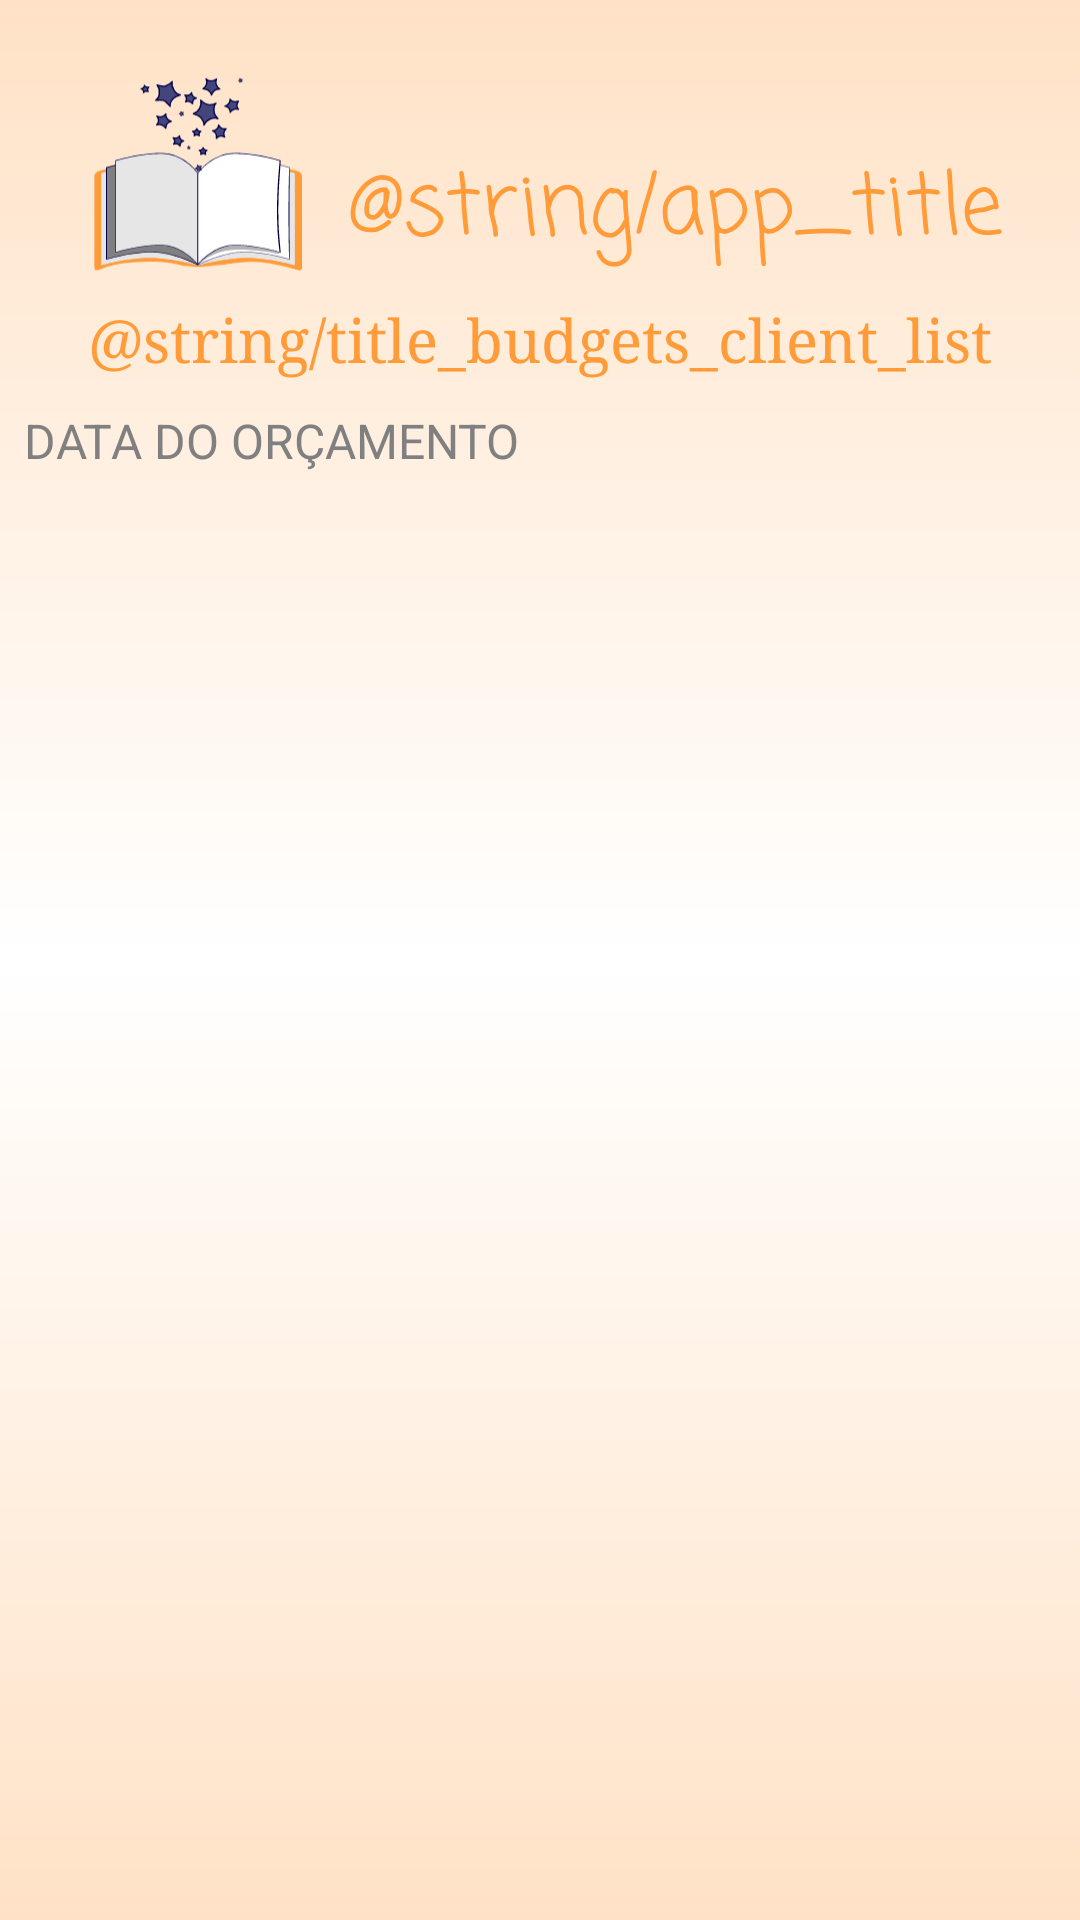

Point at icon controls on the screen. Image size 1080 × 1920, points as (x,y).
book: (198,174)
